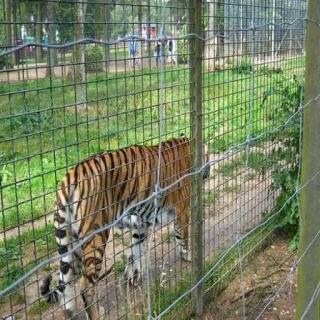Tiger: (39, 120, 232, 298)
